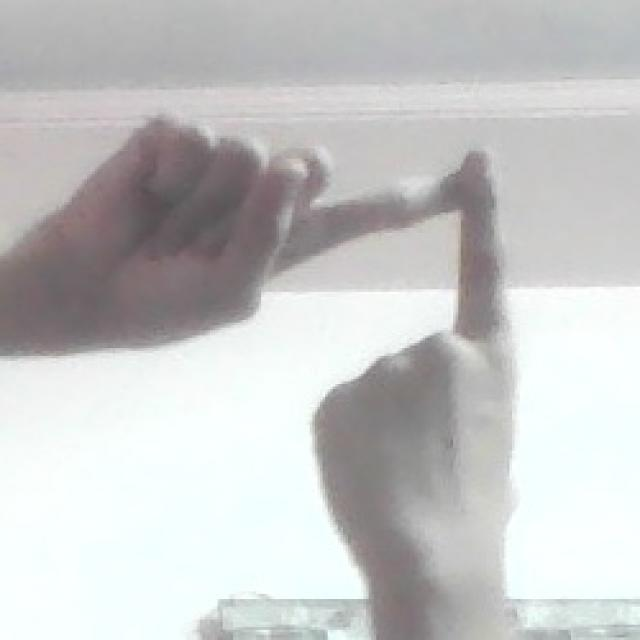Alphabet-E: (65, 110, 530, 602)
